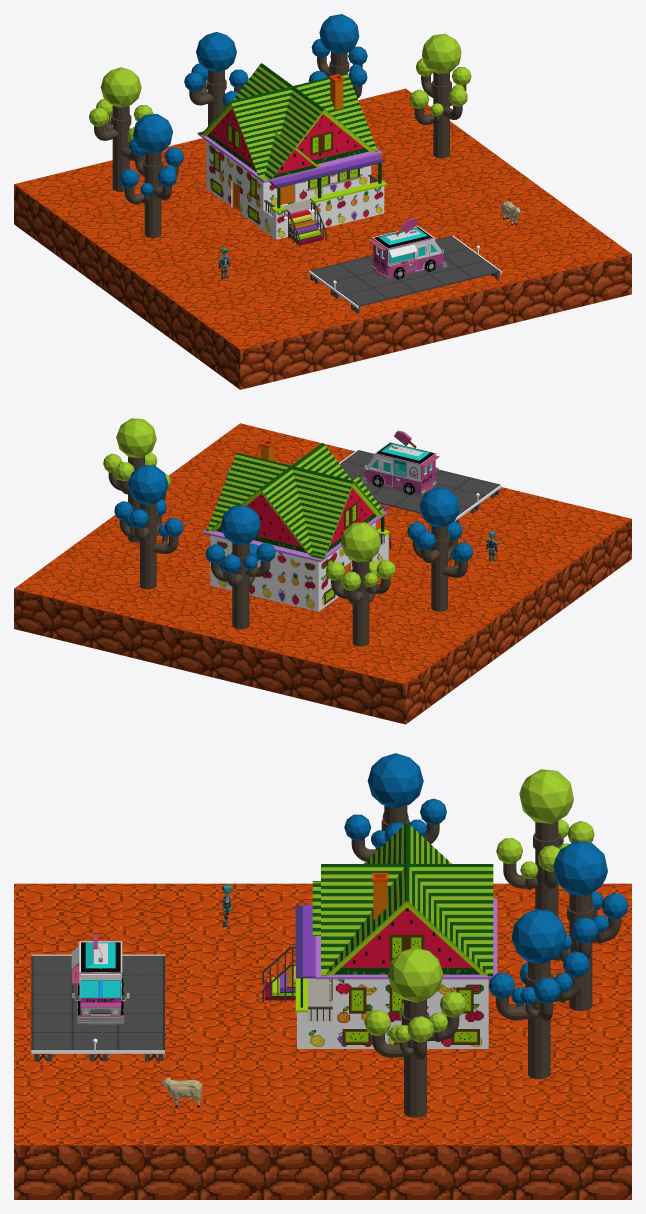
3 views of the same model, one above another, from view 1: azimuth 30°, elevation 25°; view 2: azimuth 150°, elevation 25°; view 3: azimuth 270°, elevation 25° (orthographic). The views are drawn at different scales.
Visible parts, largest first — view 1: Cube.001, Cube.1063, VEHICLES_ICE_CREAM_TRUCK; view 2: Cube.001, Cube.1063, VEHICLES_ICE_CREAM_TRUCK; view 3: Cube.001, Cube.1063, VEHICLES_ICE_CREAM_TRUCK, ANIMAL_OVEJA.
Boxes of the visible parts, x1,y1,x2,y2 form: Cube.001: [14, 14, 631, 389]; Cube.1063: [197, 63, 387, 246]; VEHICLES_ICE_CREAM_TRUCK: [369, 218, 447, 279]; Cube.001: [14, 418, 631, 724]; Cube.1063: [202, 439, 391, 611]; VEHICLES_ICE_CREAM_TRUCK: [361, 430, 439, 494]; Cube.001: [14, 753, 631, 1199]; Cube.1063: [262, 823, 497, 1048]; VEHICLES_ICE_CREAM_TRUCK: [71, 934, 129, 1024]; ANIMAL_OVEJA: [160, 1077, 202, 1107].
Bounding box in the file's own units: 4000 × 1680 × 4000.
43 materials, 6 textured.
